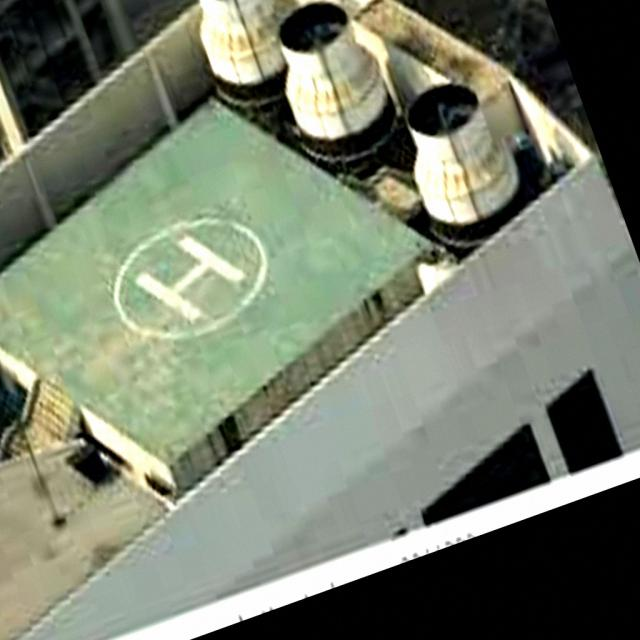helipad: (110, 210, 272, 344)
